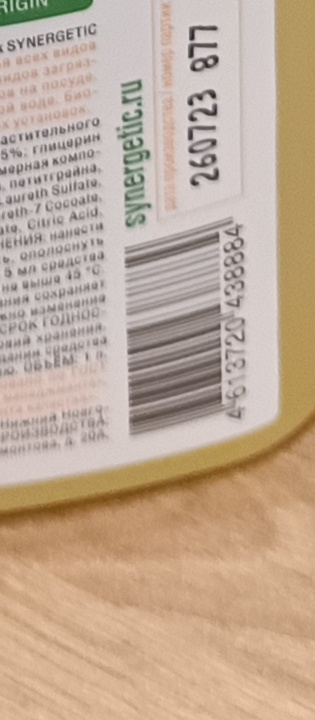1d: (119, 220, 223, 443)
